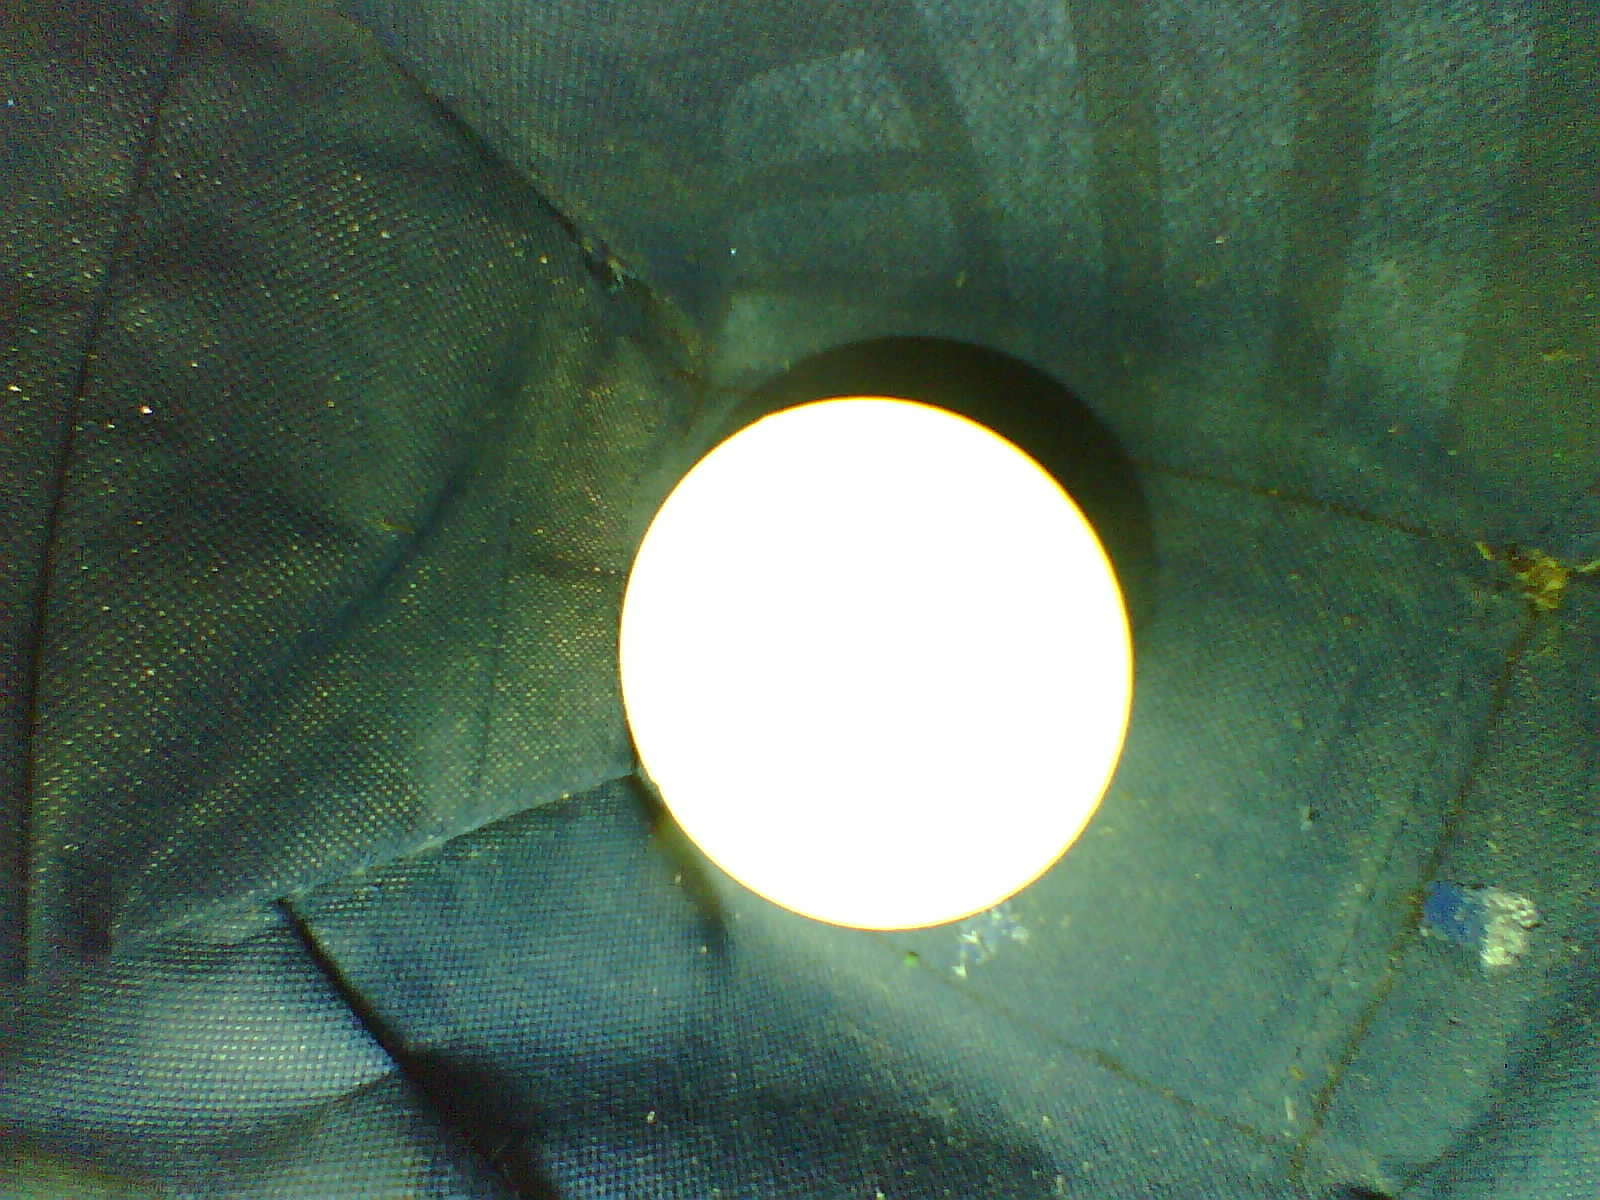cylinder-hard: (605, 374, 1139, 945)
